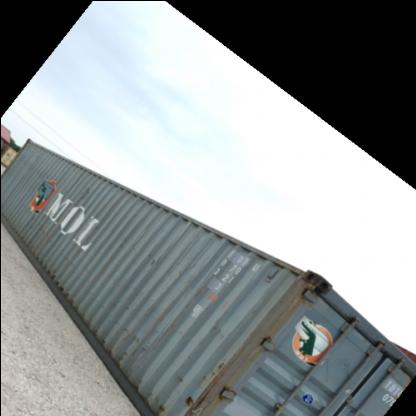Damage: (19, 169, 95, 235), (140, 381, 170, 415), (36, 264, 70, 292), (195, 350, 224, 382), (116, 319, 146, 347), (141, 244, 159, 268), (180, 392, 198, 412), (170, 368, 184, 382)
